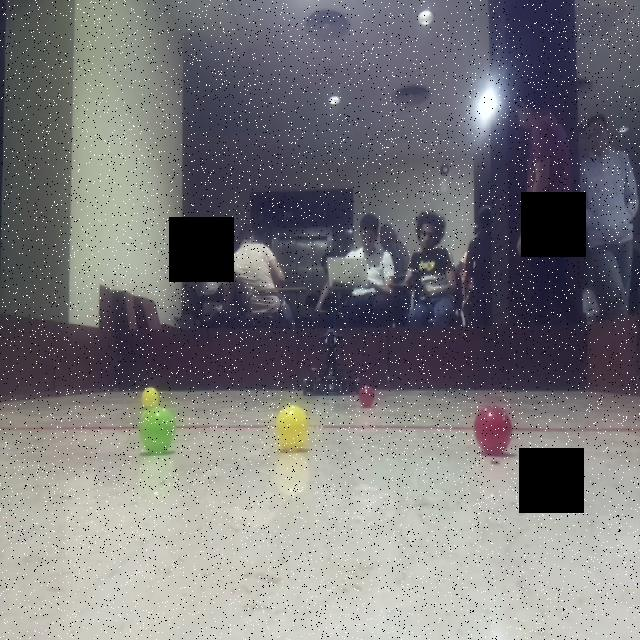ball: (473, 400, 516, 458), (274, 402, 314, 452), (138, 406, 178, 455), (138, 382, 162, 410), (355, 381, 378, 410)
